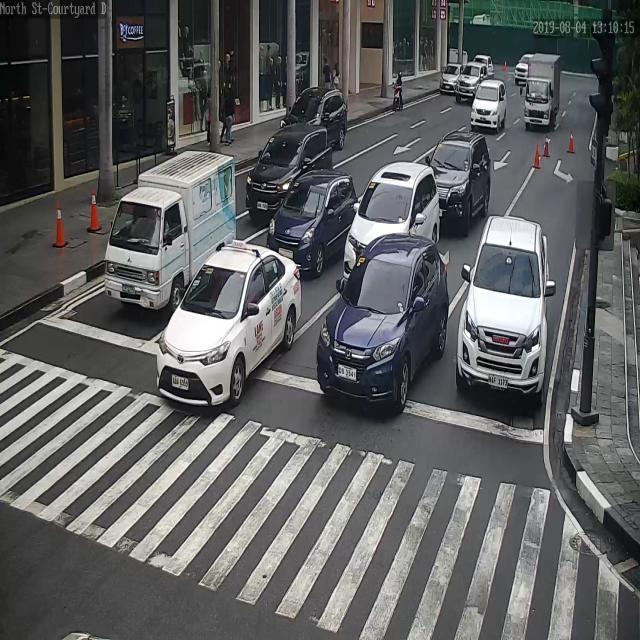car: (158, 240, 303, 406), (316, 231, 450, 407), (456, 217, 550, 402), (267, 170, 356, 279), (246, 124, 333, 217), (430, 130, 491, 224), (281, 88, 349, 151), (470, 79, 507, 133), (456, 62, 494, 101), (514, 52, 539, 86), (439, 63, 463, 93), (473, 54, 493, 74)
jeepney: (393, 70, 404, 113)
motorcycle: (520, 56, 562, 126)
van: (100, 146, 237, 311), (346, 163, 439, 275)
